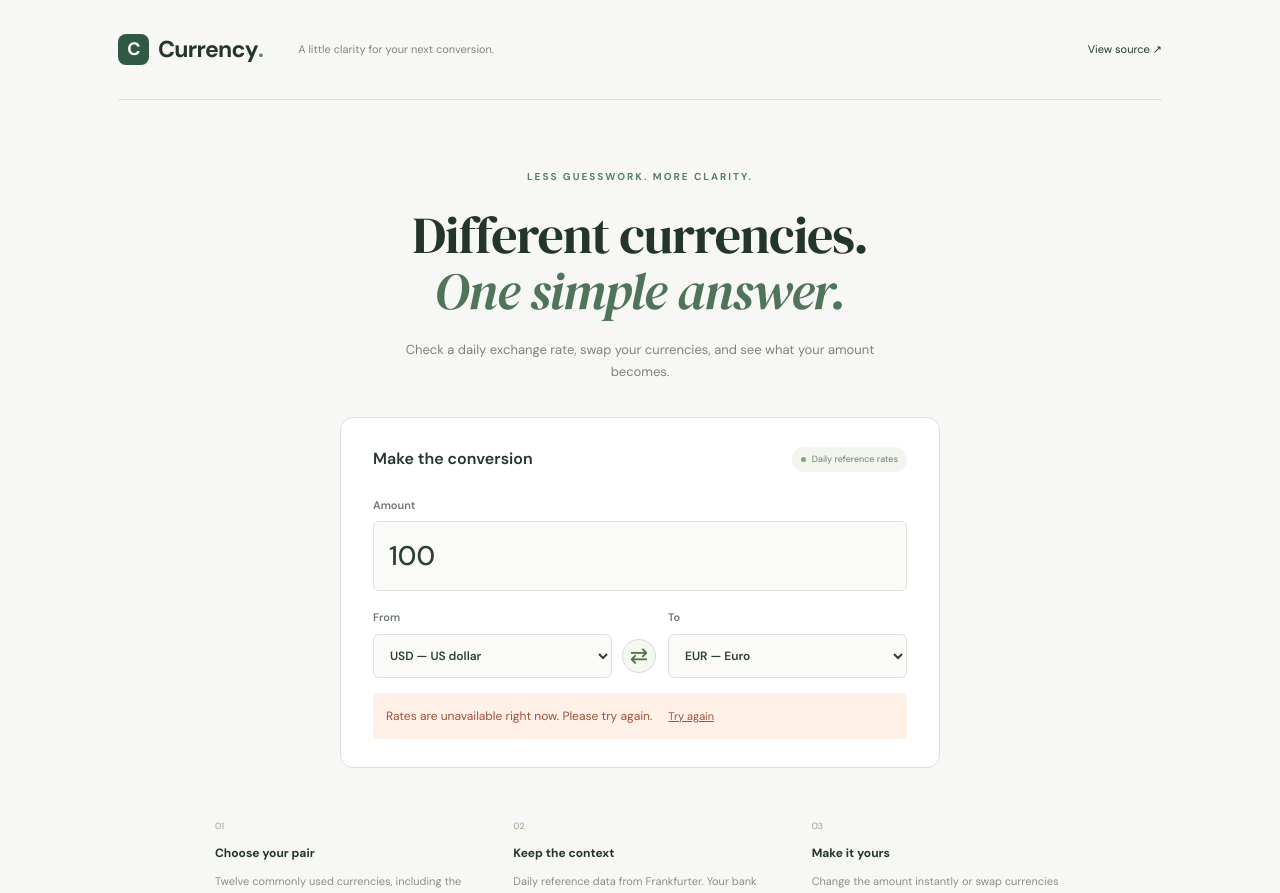
Test: shows a provider error and recovers on retry
Expected: the message shows "unavailable", [386,708,652,724]
What coordinates should you click on to do the following:
click the button "Try again"
I would click on:
 (691, 716)
Its box is [662,706,720,726].
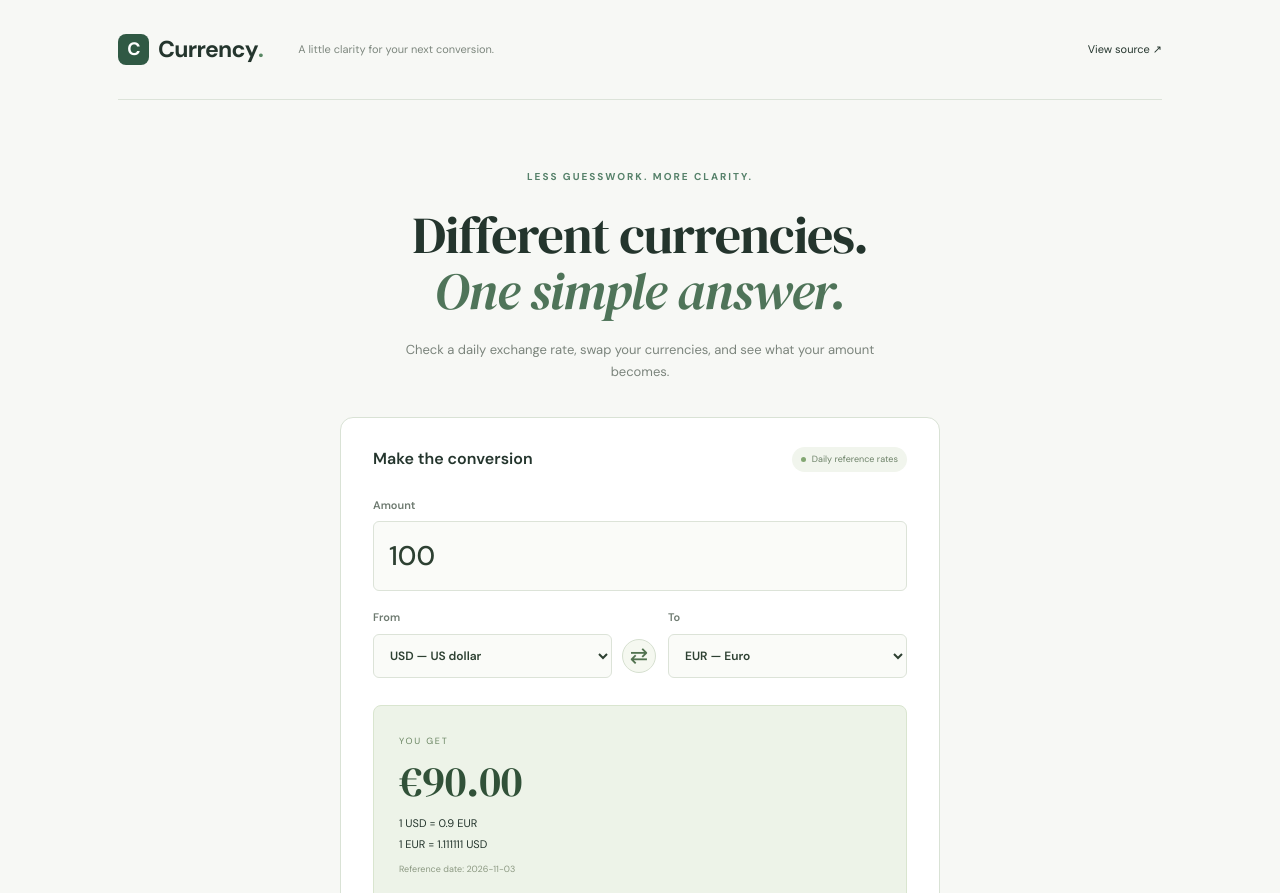
Now the text named "Converted amount" reads "€90.00", box [399,751,522,810]
